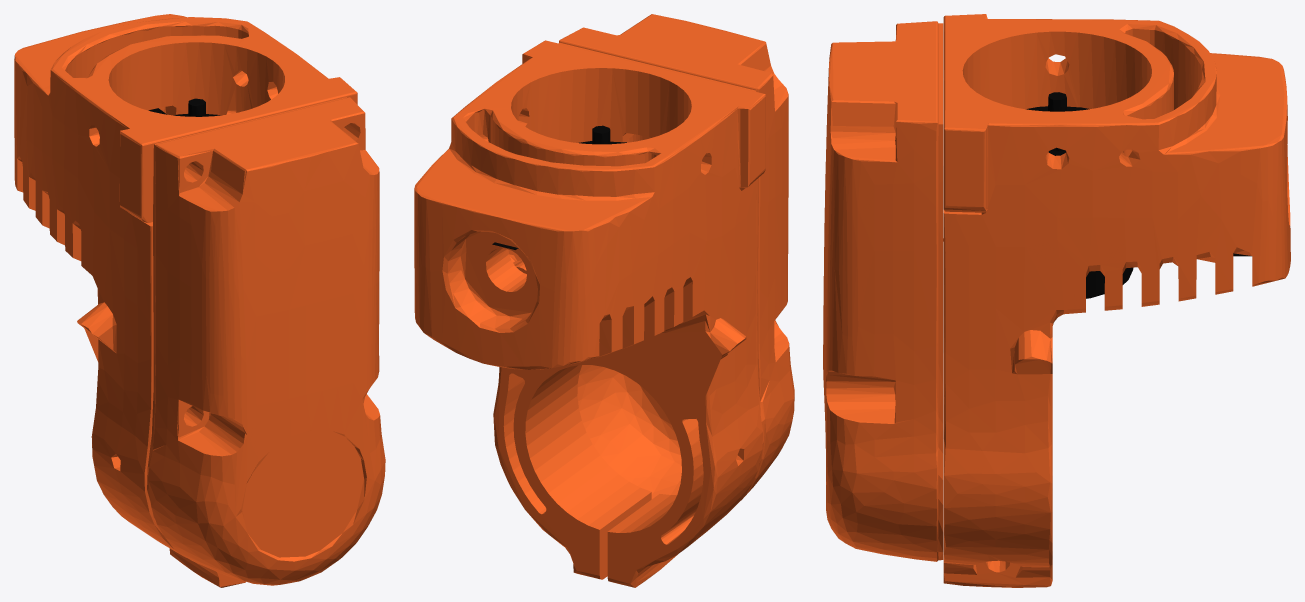
Rendered from arm4.obj.
3 views of the same model, side by side, from view 1: azimuth 30°, elevation 25°; view 2: azimuth 150°, elevation 25°; view 3: azimuth 270°, elevation 25° (orthographic). The views are drawn at different scales.
Visible parts, largest first — view 1: arm4_arm4-Geometry; view 2: arm4_arm4-Geometry; view 3: arm4_arm4-Geometry.
Part boxes in pixels (x1,y1,x2,y2): arm4_arm4-Geometry: [14, 14, 385, 587]; arm4_arm4-Geometry: [414, 14, 794, 587]; arm4_arm4-Geometry: [823, 14, 1290, 587].
Size of the model in its own units: 0.067 by 0.1168 by 0.0988.
